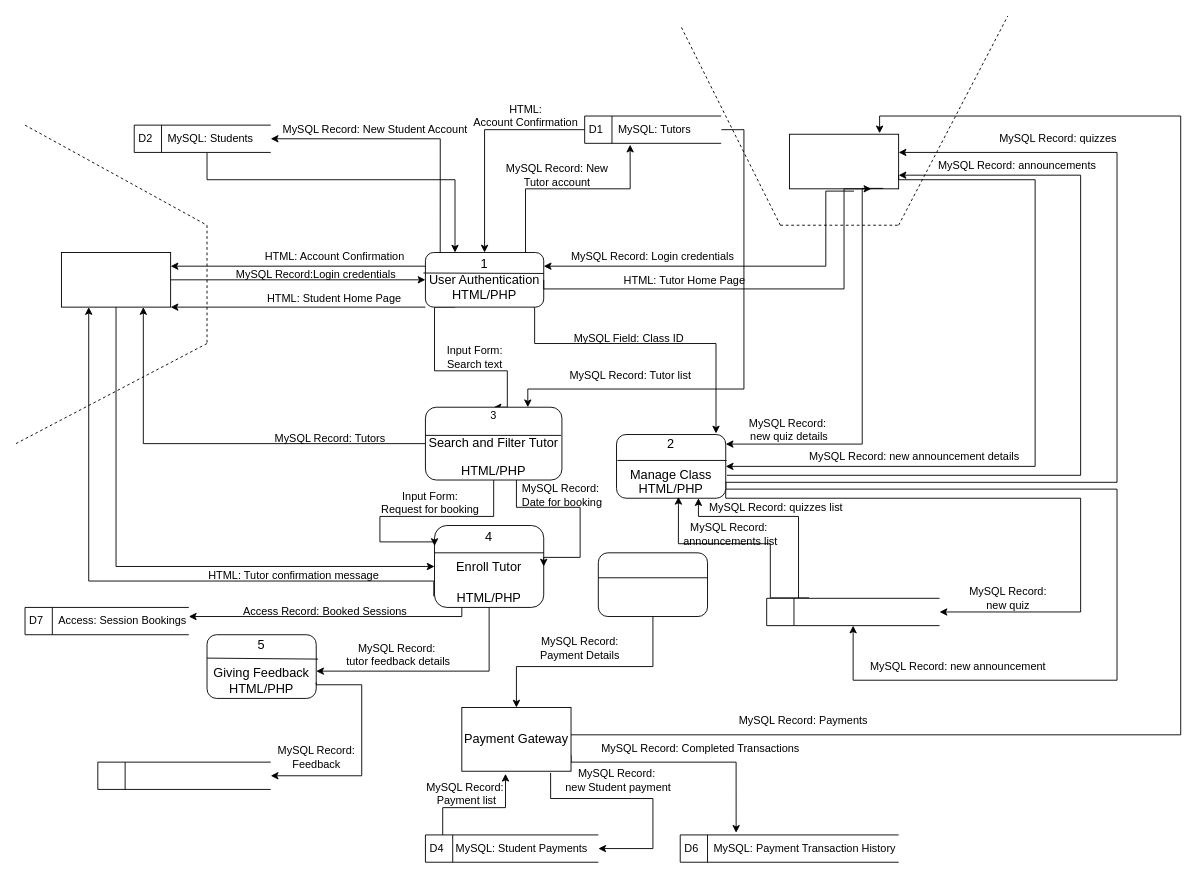
Image size: 1204x878. Some labels were removed from this diagram. Here are the shapes that lost their labels. From the top down, the box of each, then its label:
(789, 133, 899, 189): Tutor
(61, 252, 171, 307): Student
(597, 552, 708, 617): 5 Manage Payment HTML/PHP
(766, 597, 940, 626): D3 MySQL: Classes information
(97, 761, 271, 789): D5 MySQL: Student Feedbacks
